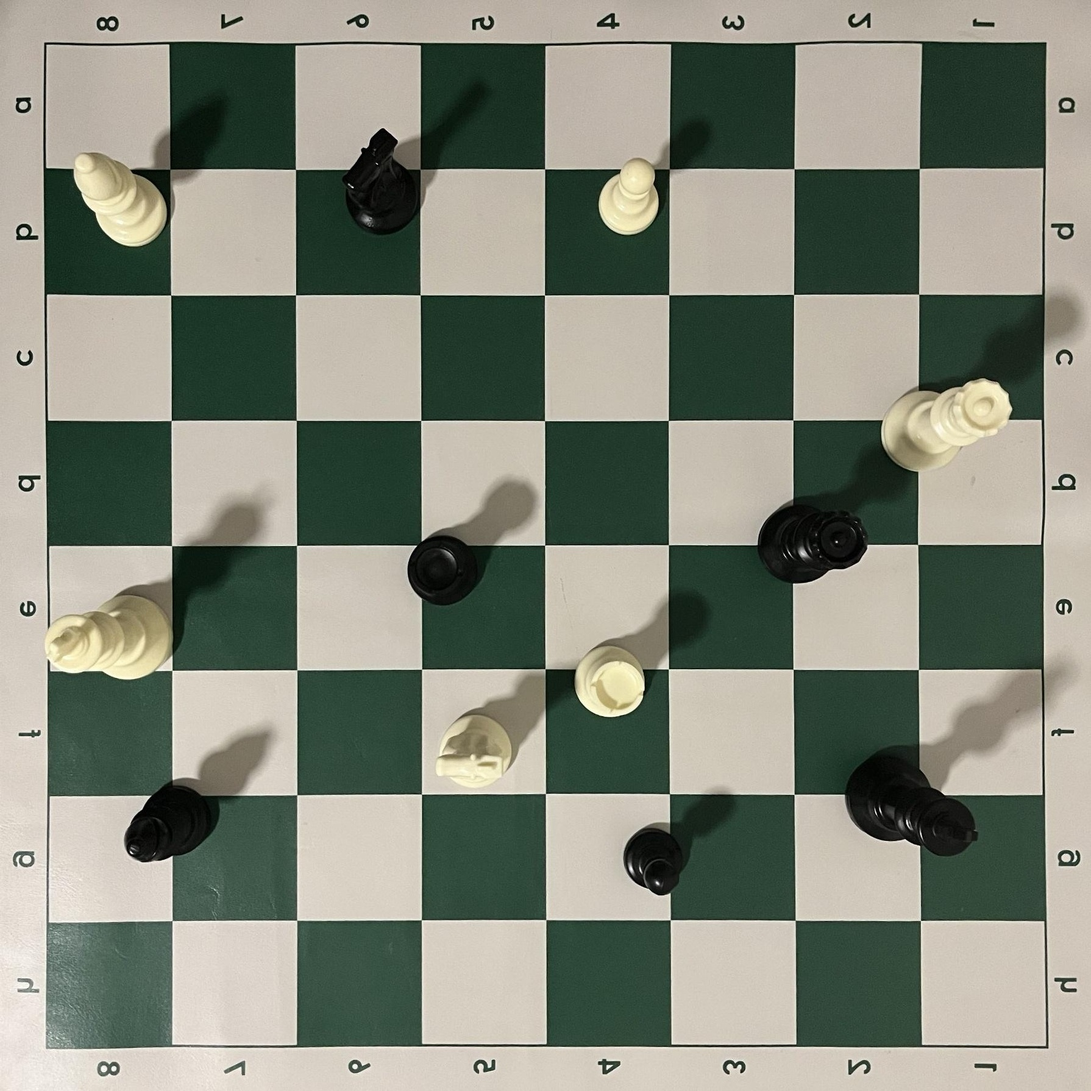black_bishop: (123, 782, 218, 864)
black_king: (844, 745, 979, 858)
black_knight: (341, 127, 420, 236)
black_pawn: (622, 825, 683, 896)
black_queen: (757, 502, 868, 584)
black_rook: (407, 534, 481, 606)
white_bishop: (73, 152, 168, 248)
white_king: (44, 594, 173, 681)
white_knight: (435, 714, 513, 790)
white_pawn: (598, 157, 660, 236)
white_queen: (880, 378, 1013, 472)
white_rook: (574, 643, 647, 719)
